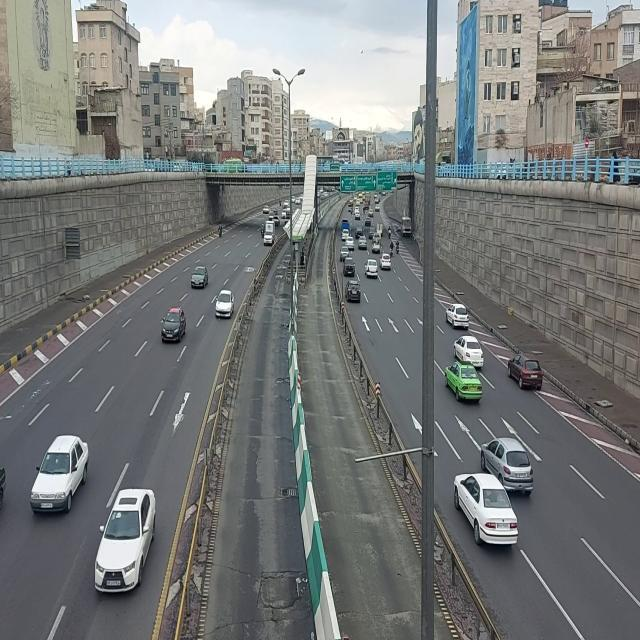Car: (93, 486, 157, 595), (452, 473, 520, 550), (29, 433, 90, 513), (478, 433, 534, 494), (443, 360, 483, 405), (506, 352, 545, 392), (159, 304, 189, 346), (453, 334, 485, 367), (445, 301, 471, 331), (215, 288, 237, 320), (190, 264, 210, 291), (345, 277, 363, 304), (364, 257, 378, 280), (343, 258, 356, 277), (380, 253, 392, 271), (339, 245, 349, 263), (358, 236, 368, 251), (345, 236, 355, 250), (355, 225, 363, 239), (342, 229, 350, 241), (365, 215, 372, 227), (354, 210, 360, 220), (368, 209, 374, 218), (375, 205, 381, 213), (355, 199, 361, 207)
Motorcycle: (218, 222, 224, 240), (396, 239, 401, 255), (389, 242, 393, 258), (387, 225, 391, 241)
Pickup: (264, 217, 275, 249), (371, 238, 381, 254)
